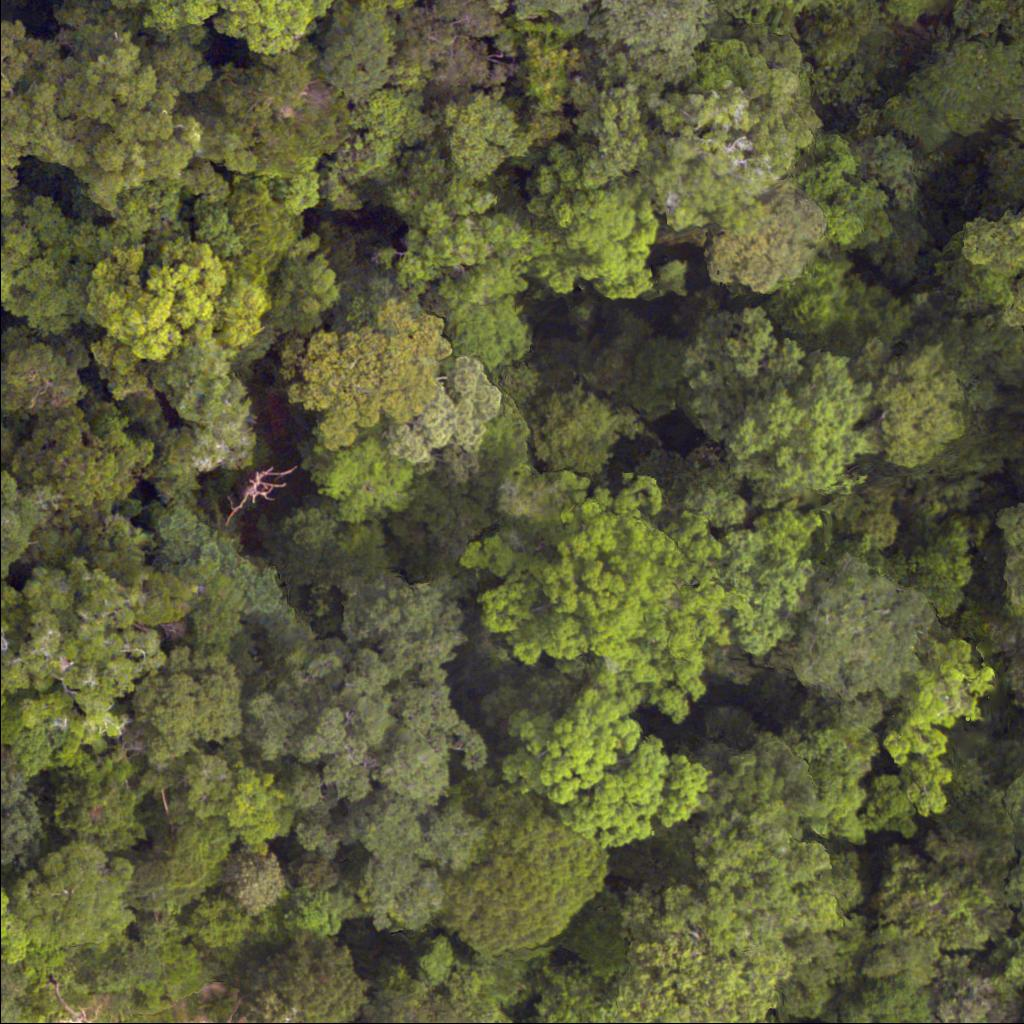crown: (251, 569, 495, 925), (466, 498, 740, 716), (609, 790, 847, 1023), (687, 310, 866, 509), (506, 683, 709, 850), (448, 790, 613, 966), (82, 235, 275, 361), (392, 171, 576, 303), (790, 558, 939, 707), (879, 812, 1017, 959), (891, 633, 1001, 811), (533, 171, 664, 306), (200, 56, 350, 173), (881, 36, 1023, 149), (785, 921, 941, 1023), (877, 348, 979, 482), (527, 376, 642, 476), (970, 750, 1023, 942), (0, 196, 70, 335), (313, 6, 397, 115), (182, 0, 336, 55), (442, 89, 524, 182), (216, 768, 294, 845), (965, 205, 1023, 301), (359, 985, 486, 1023), (227, 849, 290, 918), (0, 769, 39, 877)
